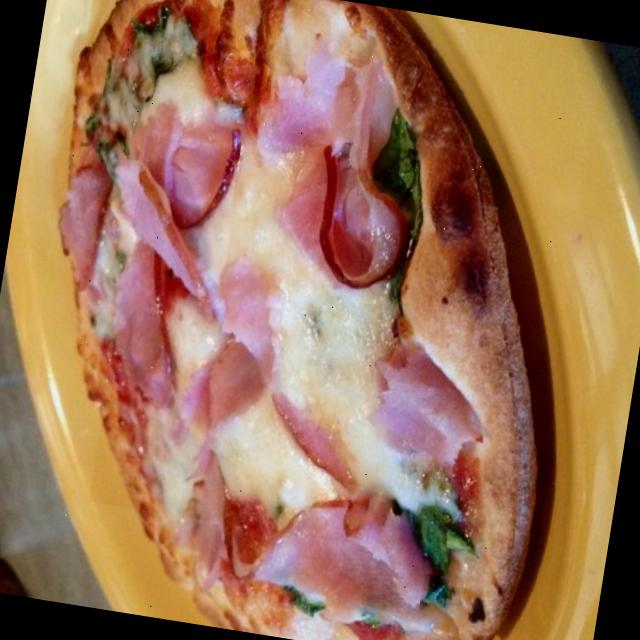basil: (357, 118, 438, 310), (94, 0, 202, 128), (400, 494, 480, 582), (276, 580, 330, 615), (420, 572, 460, 614)
cheese: (88, 135, 406, 542)
pizza: (59, 0, 537, 640)
